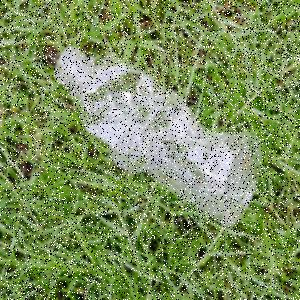Plastic-bottle: (54, 45, 264, 229)
